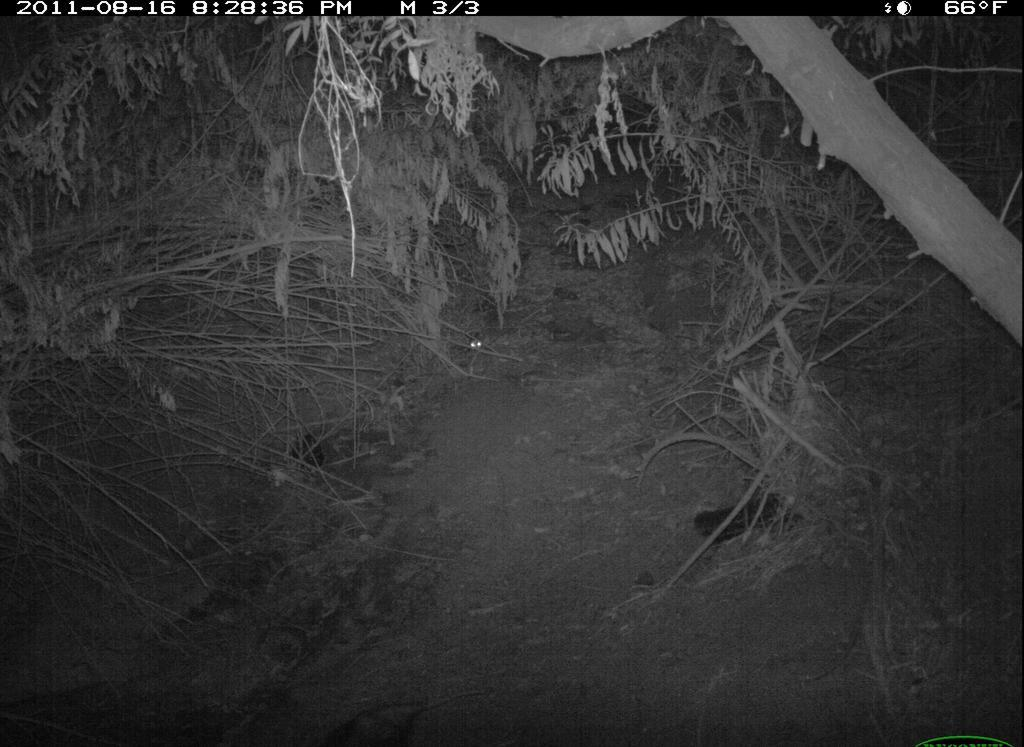opossum: (286, 669, 502, 747)
